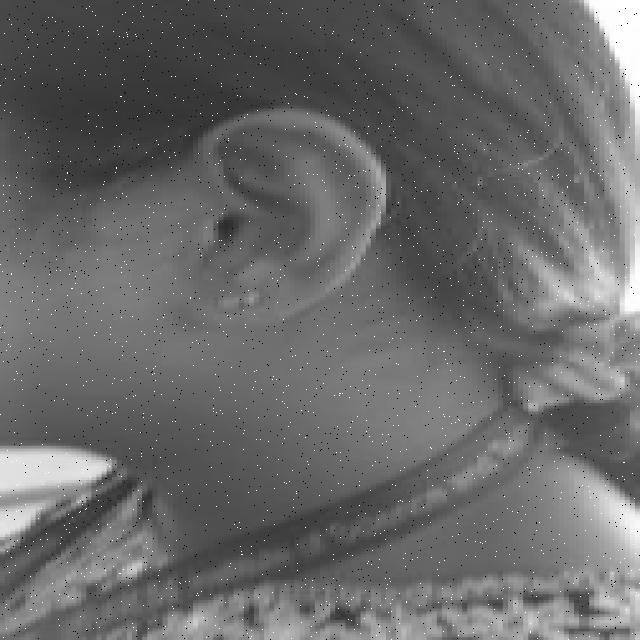ear: (193, 106, 381, 320)
